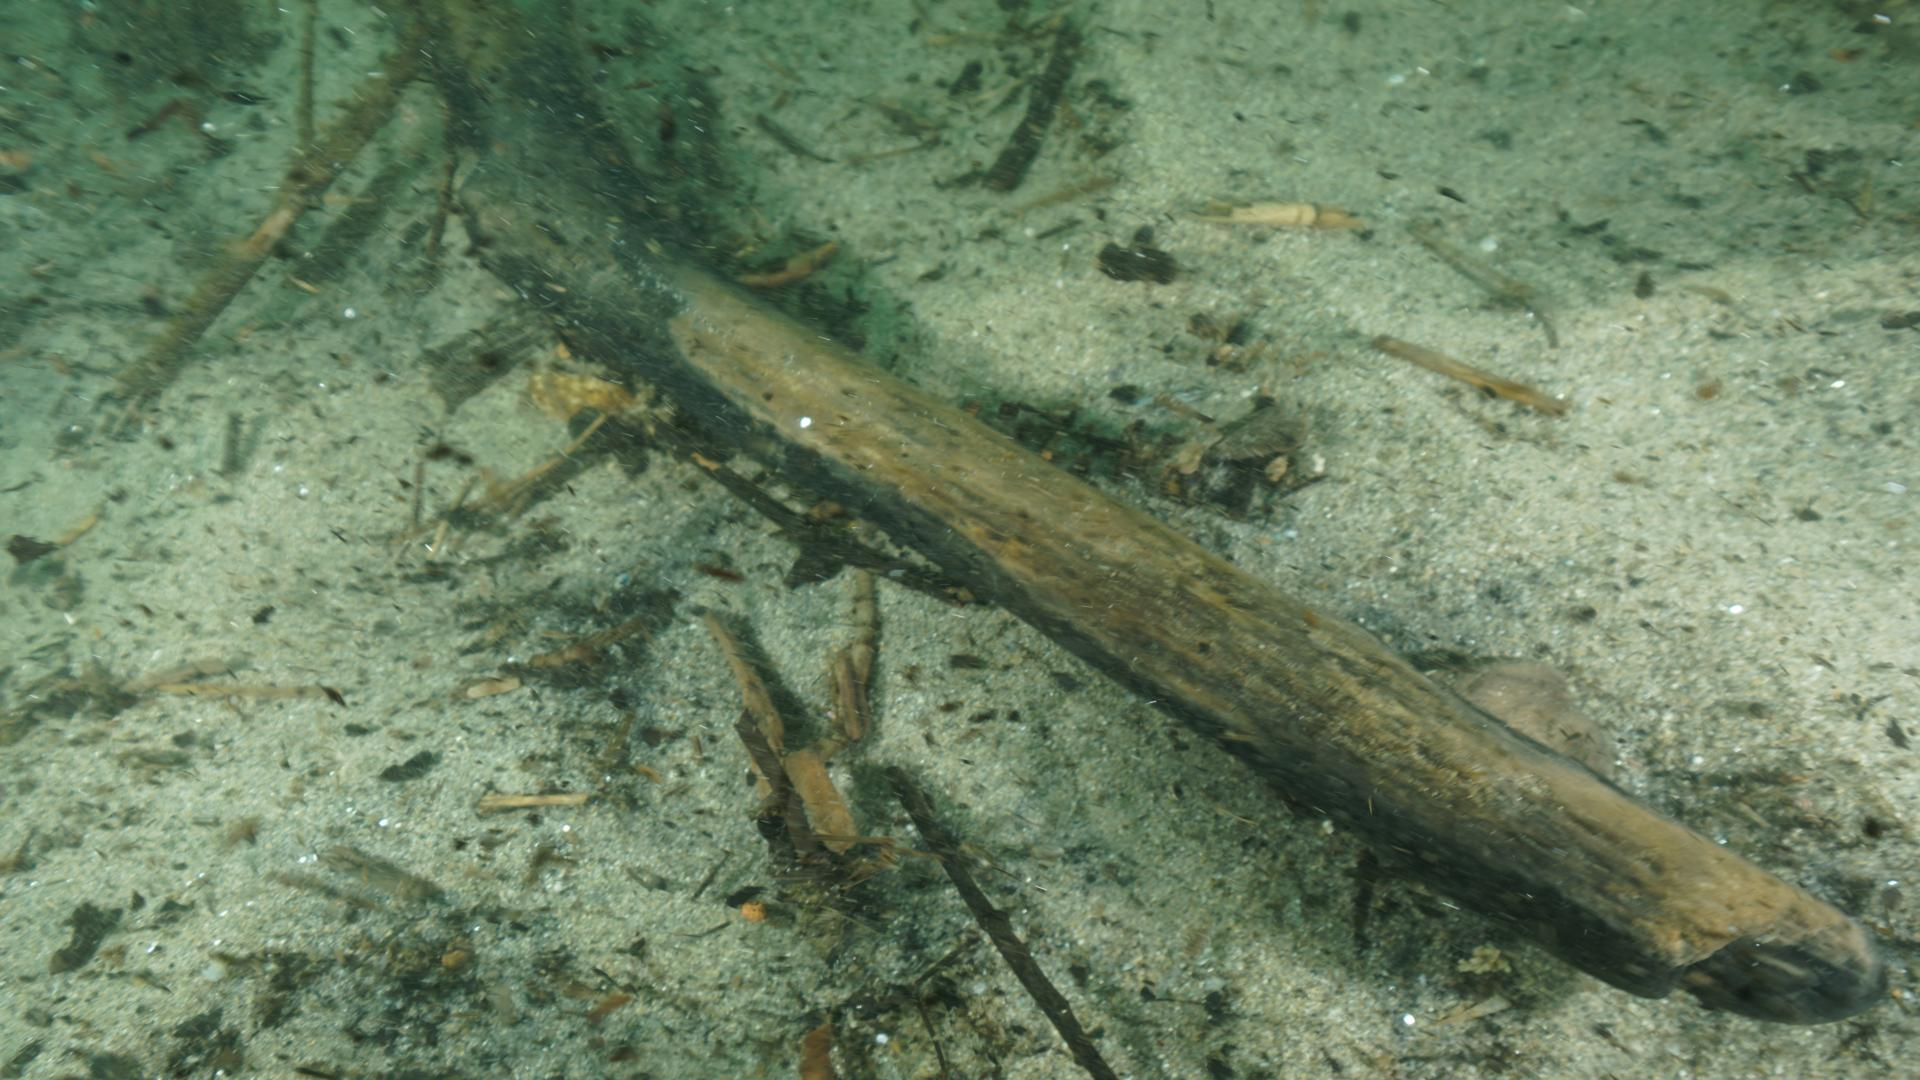wood: (440, 0, 1888, 1023)
